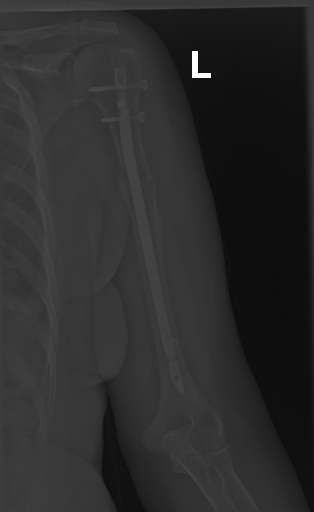implant: (88, 55, 152, 146)
